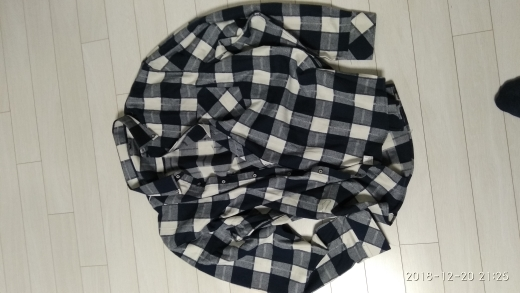shirts: (114, 1, 414, 293)
